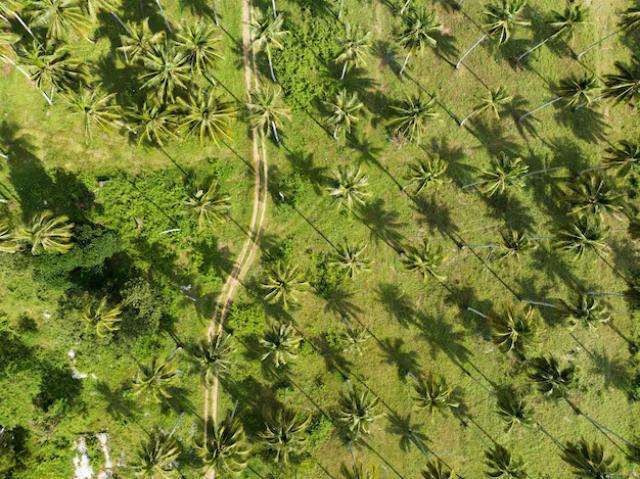trees: (52, 81, 123, 143), (9, 30, 63, 88), (24, 204, 74, 266), (388, 89, 439, 145), (261, 405, 306, 467), (570, 163, 616, 222), (75, 289, 129, 339), (481, 299, 535, 349), (182, 179, 234, 229), (176, 15, 229, 62), (139, 417, 179, 479), (407, 231, 451, 287), (396, 1, 439, 57), (194, 86, 234, 146), (562, 217, 608, 269), (497, 385, 540, 440), (329, 317, 376, 367), (259, 323, 304, 374), (572, 435, 622, 479), (414, 373, 460, 420), (321, 84, 363, 135), (137, 351, 179, 401), (535, 356, 583, 399), (331, 161, 369, 213), (35, 2, 91, 37), (337, 383, 374, 435), (199, 329, 238, 378), (334, 240, 371, 291), (485, 154, 525, 201), (563, 77, 602, 124), (114, 22, 164, 58), (577, 279, 613, 328), (403, 158, 453, 193), (329, 28, 370, 69), (219, 417, 249, 473), (142, 64, 189, 99), (485, 2, 520, 46), (550, 1, 585, 45), (262, 261, 294, 309), (484, 450, 535, 479), (147, 96, 181, 139), (480, 91, 511, 128), (423, 463, 455, 479)
